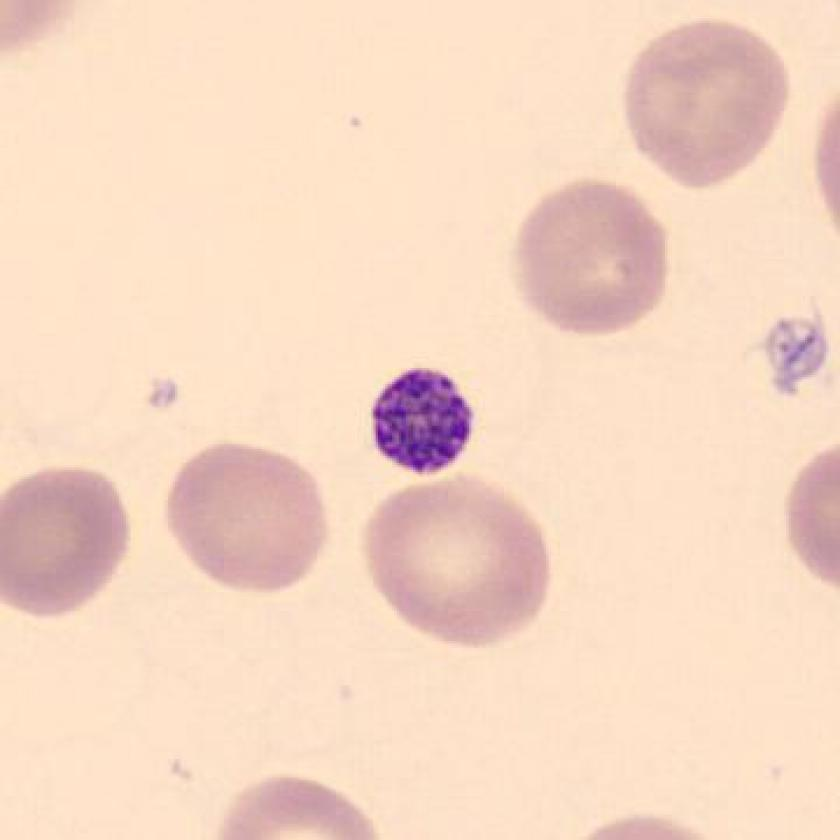platelets: (356, 358, 491, 492)
